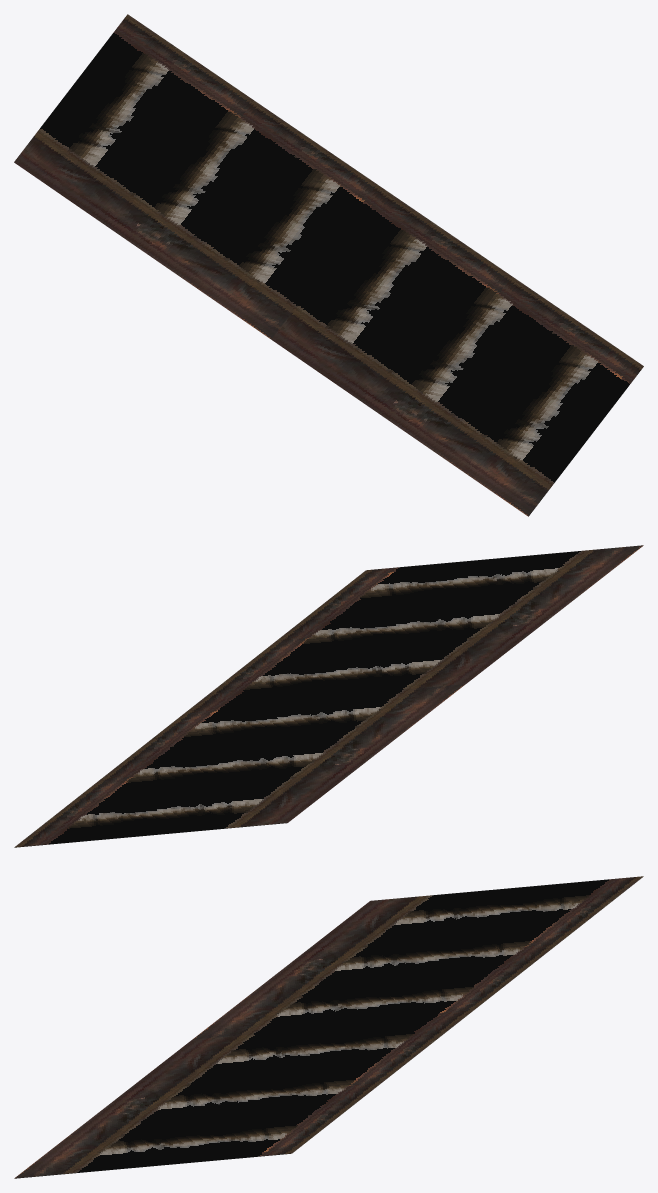
The model's file is stairbanister.glb.
The picture shows the model from 3 angles, top to bottom: view 1: azimuth 30°, elevation 25°; view 2: azimuth 150°, elevation 25°; view 3: azimuth 330°, elevation 25°; orthographic projection. The views are drawn at different scales.
Visible parts, largest first — view 1: stairbanister; view 2: stairbanister; view 3: stairbanister.
Boxes of the visible parts, bbox=[...] form: stairbanister: bbox=[14, 14, 643, 516]; stairbanister: bbox=[14, 545, 643, 847]; stairbanister: bbox=[14, 876, 643, 1178].
Size of the model in its own units: 1.06 by 0.001 by 4.27.
1 material, 1 textured.
